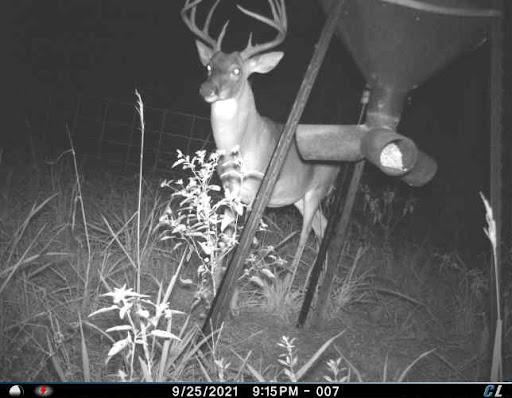Deer: (177, 0, 345, 297)
